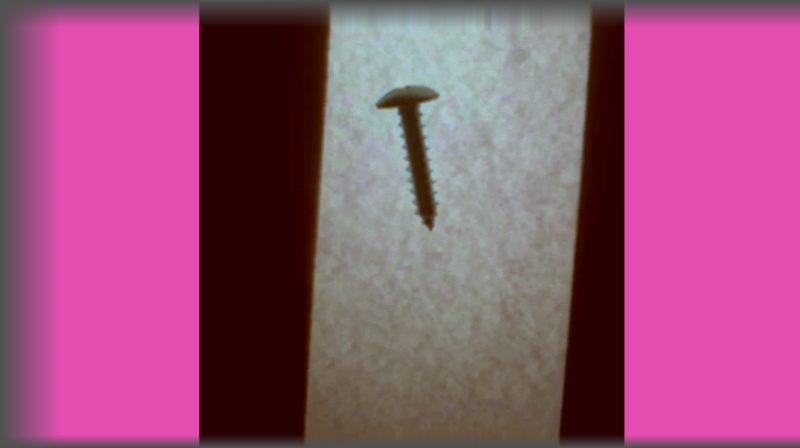S003: (373, 81, 442, 231)
